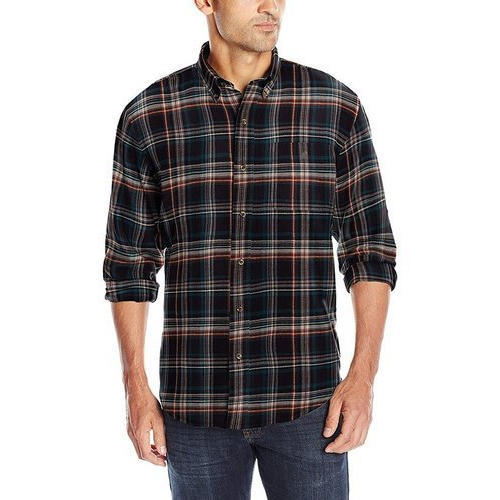Shirt: (96, 35, 439, 421)
